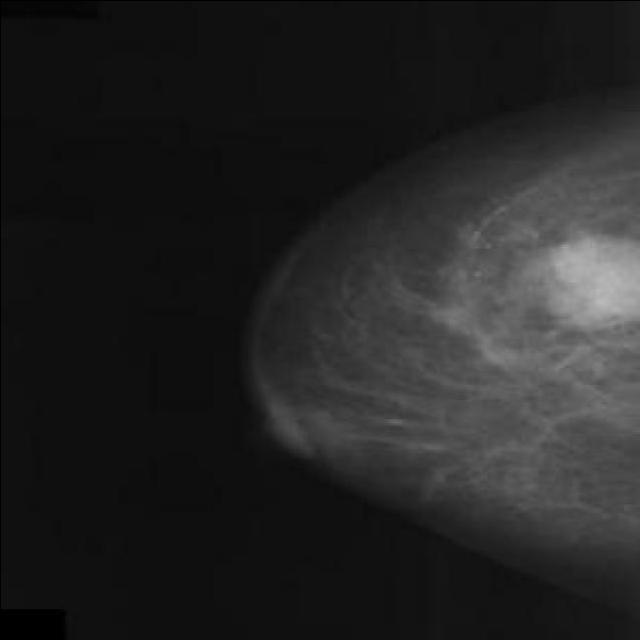tumor: (529, 220, 640, 344)
